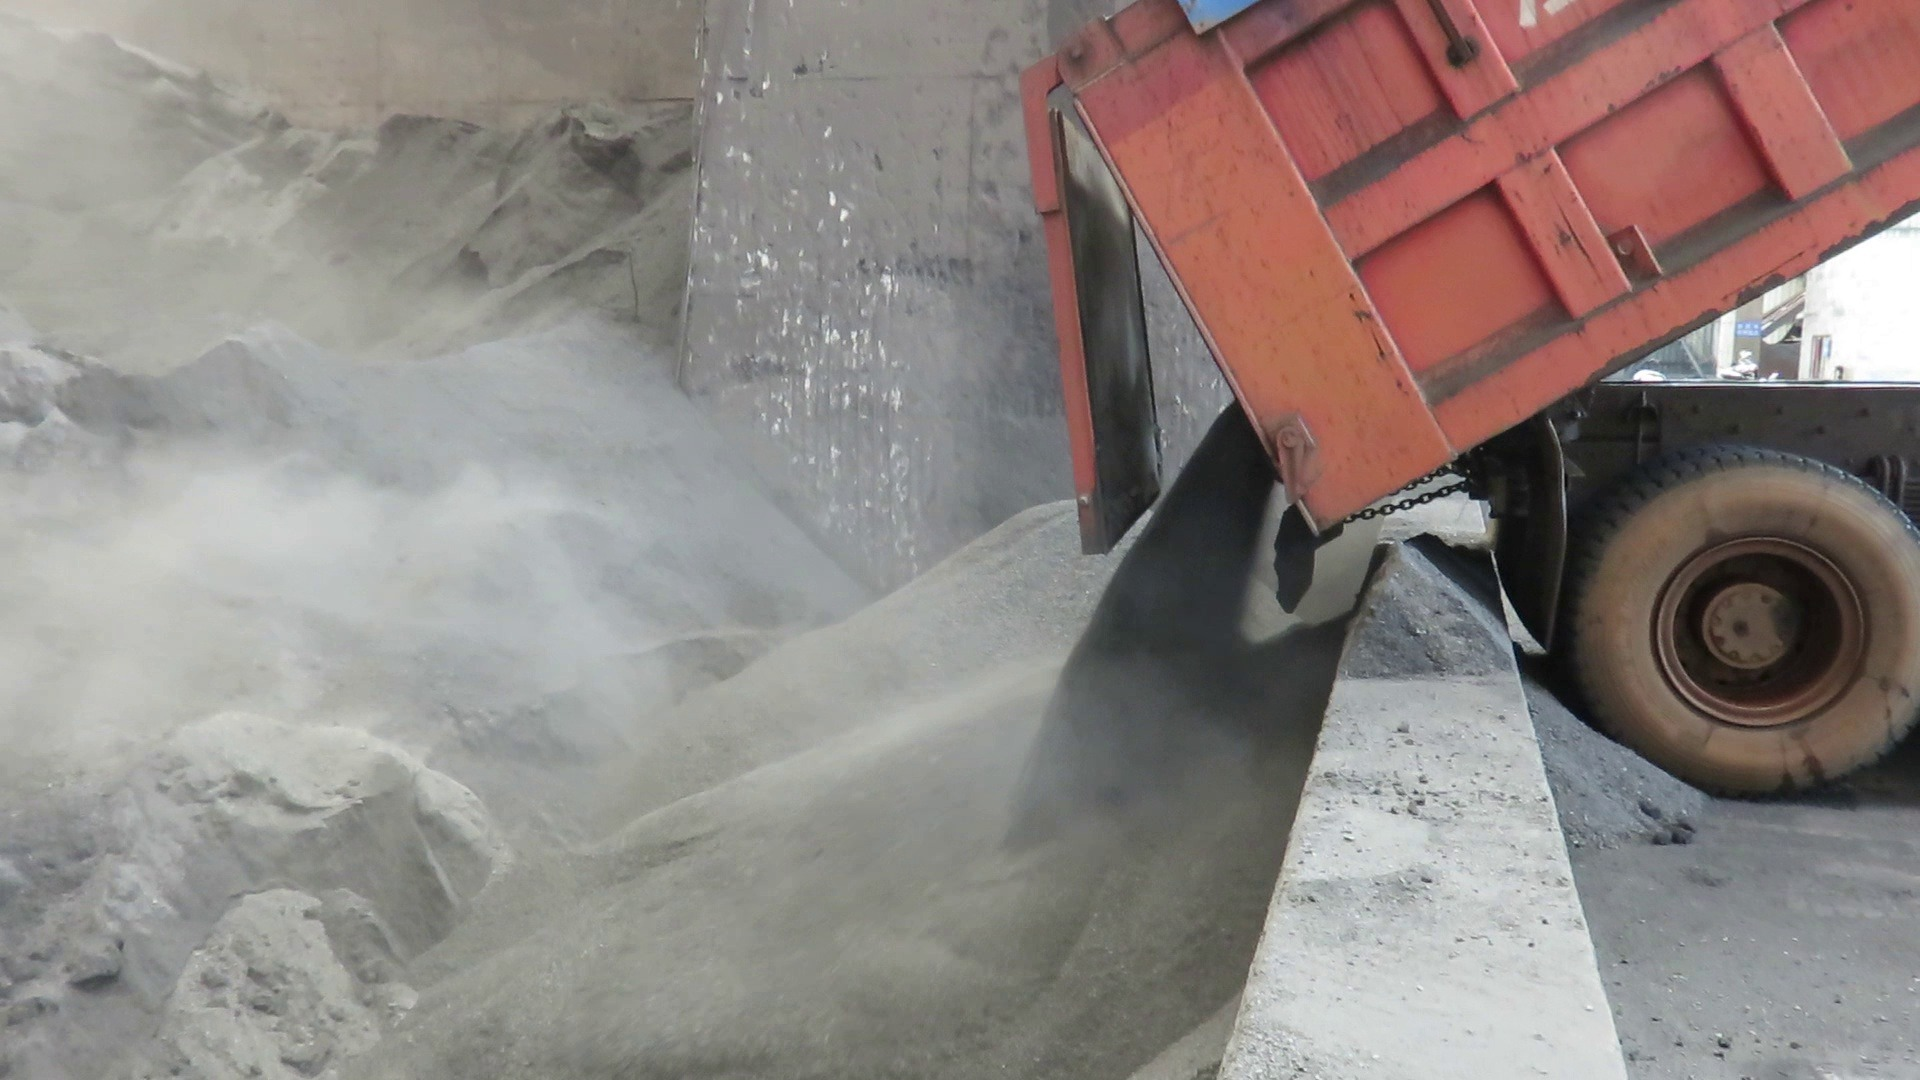dust: (8, 18, 1004, 947)
truck: (1015, 0, 1920, 812)
